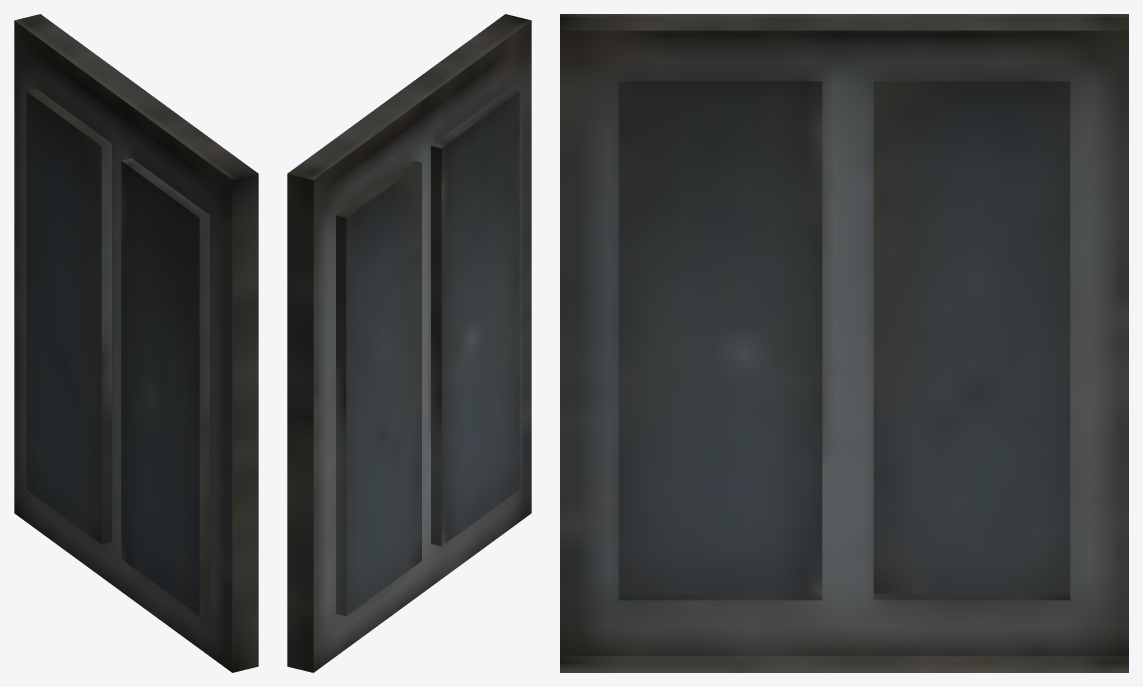
Rendered from DoubleWindow_02.FBX.
The picture shows the model from 3 angles, left to right: view 1: azimuth 30°, elevation 25°; view 2: azimuth 150°, elevation 25°; view 3: azimuth 270°, elevation 25°; orthographic projection. The views are drawn at different scales.
Visible parts, largest first — view 1: DoubleWindow_02; view 2: DoubleWindow_02; view 3: DoubleWindow_02.
Boxes of the visible parts, x1,y1,x2,y2 form: DoubleWindow_02: (14,14,258,672); DoubleWindow_02: (287,14,531,672); DoubleWindow_02: (560,14,1128,672).
Size of the model in its own units: 12.86 by 165 by 132.
